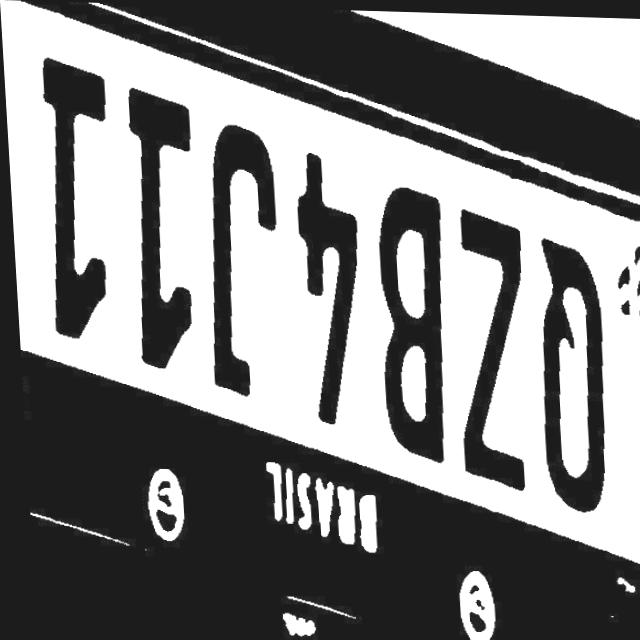1: (27, 49, 113, 349), (116, 85, 200, 373)
4: (274, 142, 369, 426)
b: (362, 178, 452, 463)
j: (195, 113, 287, 406)
q: (518, 238, 611, 517)
z: (442, 203, 531, 491)
